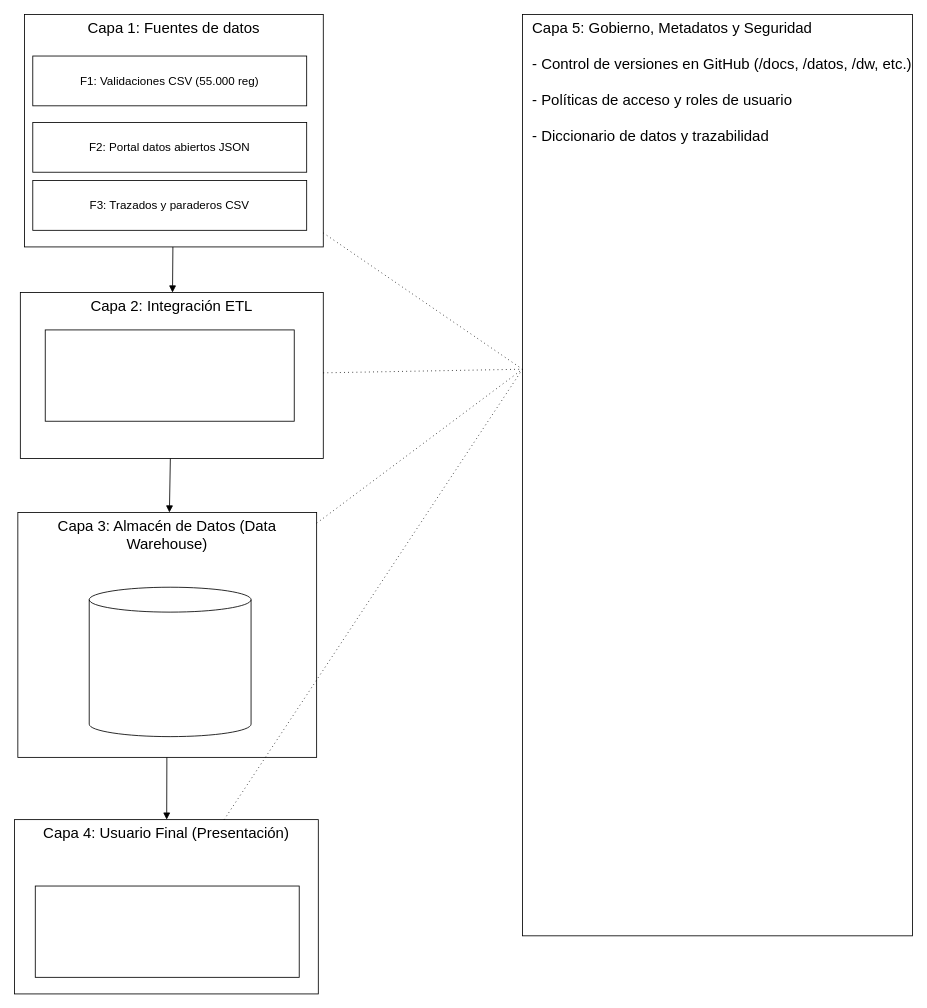
Image size: 927x1008. Some labels were removed from this diagram. Here are the shapes that lost their labels. From the top down, the centre of each, then its label:
At (169,375): "Pentaho Data Integration (Archivos .ktr y .kjb)".
At (169,661): "PostgreSQL (Data Warehouse - Modelo en Estrella)".
At (166,931): "Microsoft Power BI (Tableros Interactivos)".
